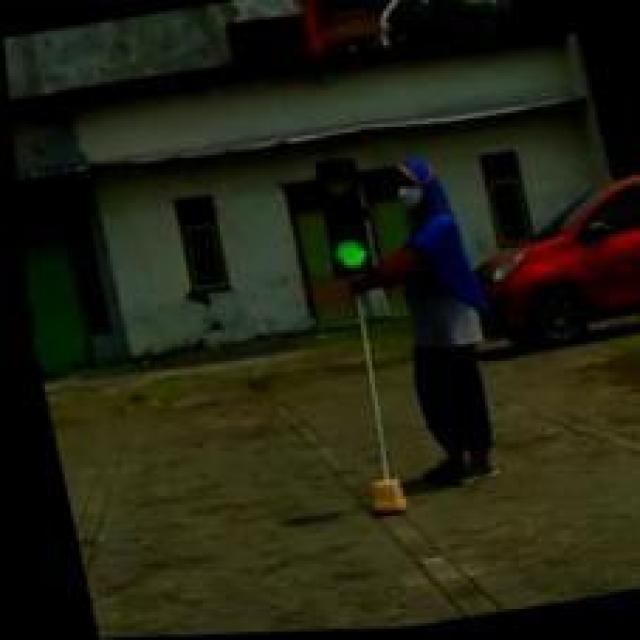green_light: (308, 160, 370, 280)
